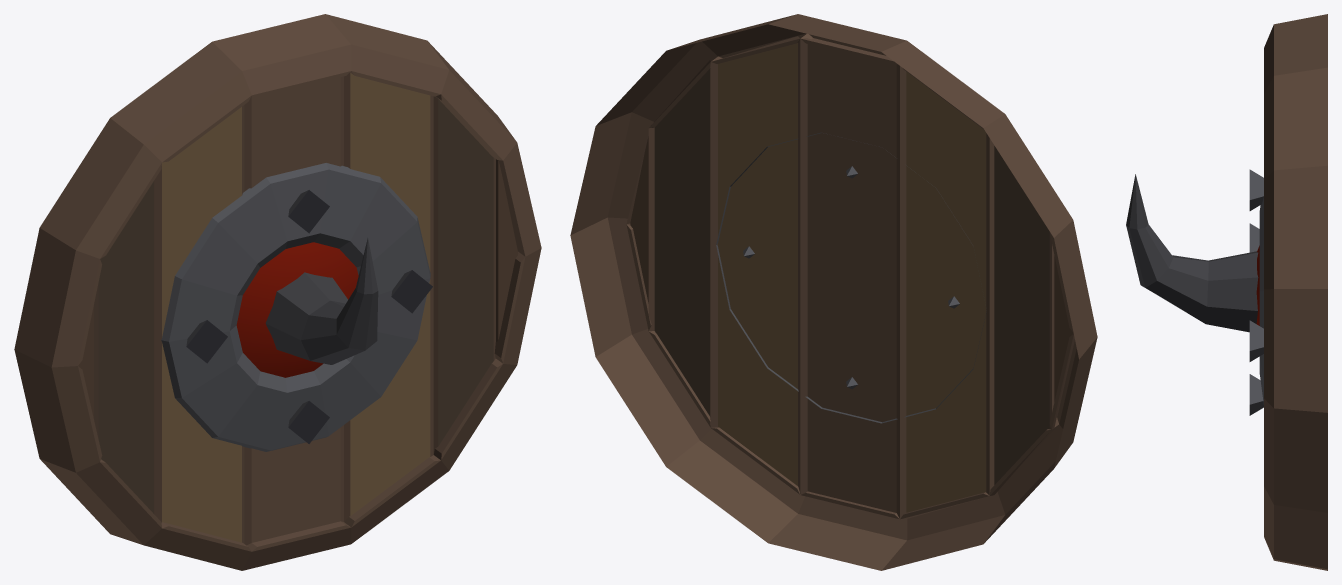
The model's file is Shield_2.fbx.
3 renders of one model, left to right at view 1: azimuth 30°, elevation 25°; view 2: azimuth 150°, elevation 25°; view 3: azimuth 270°, elevation 25°, orthographic. The views are drawn at different scales.
Visible parts, largest first — view 1: polySurface2960; view 2: polySurface2960; view 3: polySurface2960.
Boxes of the visible parts, x1=… form: polySurface2960: x1=14, y1=14, x2=541, y2=570; polySurface2960: x1=570, y1=14, x2=1097, y2=570; polySurface2960: x1=1126, y1=14, x2=1327, y2=570.
Size of the model in its own units: 126 by 123 by 44.66.
